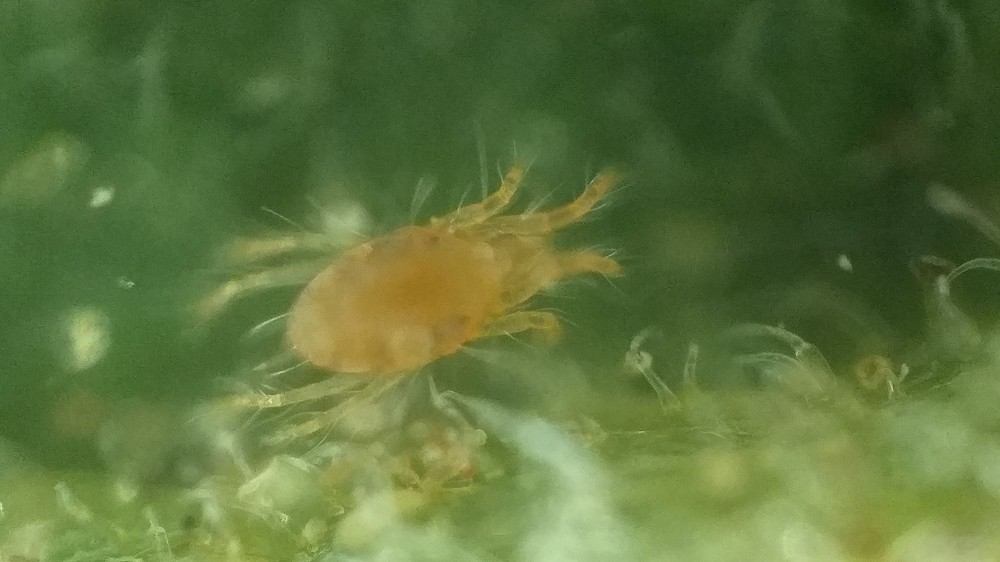Aracnido Rojo: (216, 140, 656, 449)
